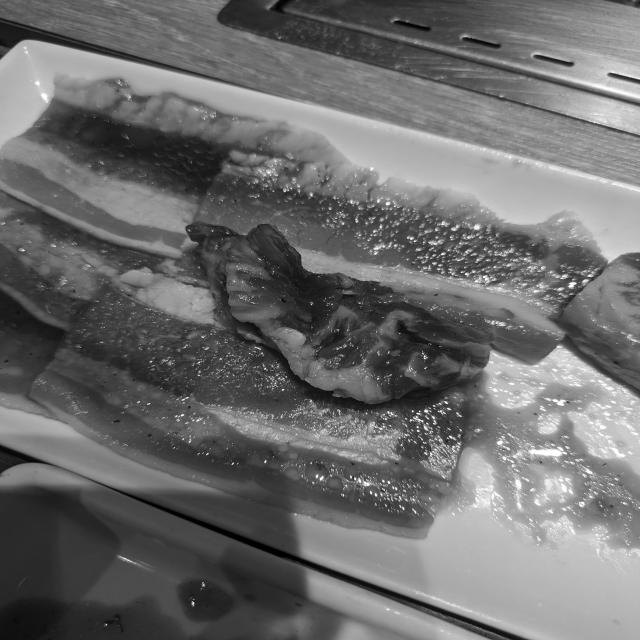NG raw beef,: (14, 287, 491, 553), (180, 145, 606, 365), (0, 69, 390, 257), (168, 218, 512, 421), (0, 181, 183, 331), (543, 239, 640, 411)
